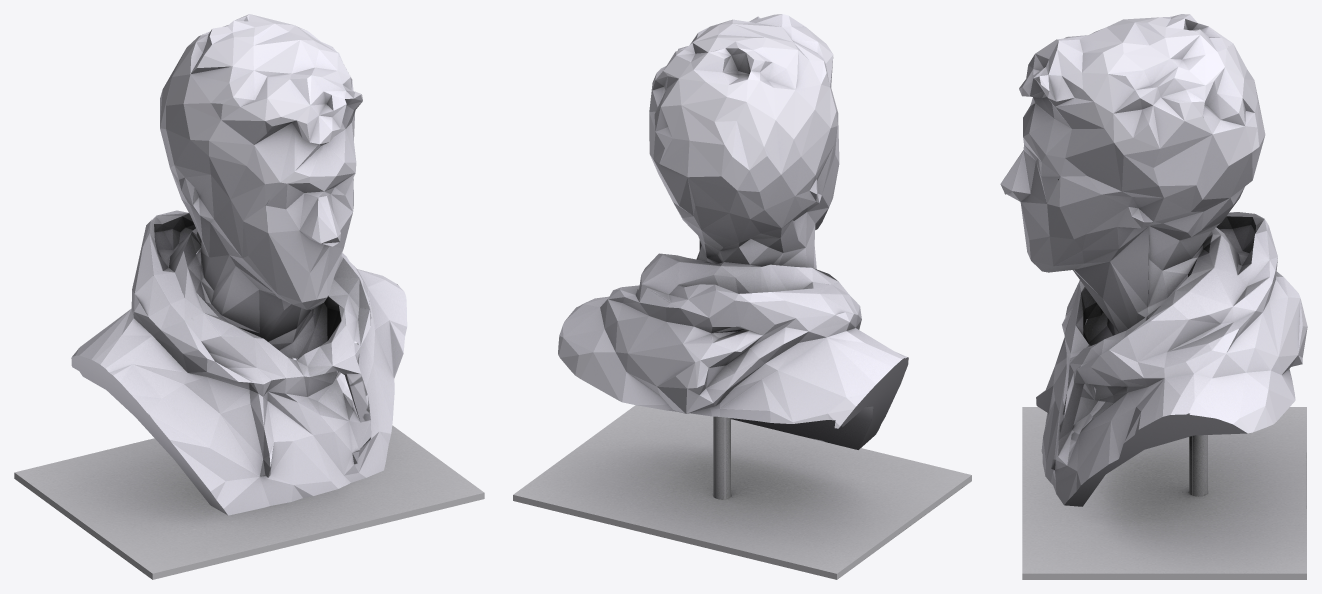
3 views of the same model, side by side, from view 1: azimuth 30°, elevation 25°; view 2: azimuth 150°, elevation 25°; view 3: azimuth 270°, elevation 25° (orthographic). The views are drawn at different scales.
Parts seen in each view (by area): view 1: 8, Support006; view 2: 8, Support006; view 3: 8, Support006.
Part boxes in pixels (x1,y1,x2,y2): 8: [71, 14, 407, 515]; Support006: [14, 425, 484, 579]; 8: [558, 14, 908, 449]; Support006: [513, 405, 971, 579]; 8: [1000, 14, 1307, 506]; Support006: [1022, 407, 1306, 579].
Size of the model in its own units: 15.39 by 20.49 by 12.
2 materials, 2 textured.
